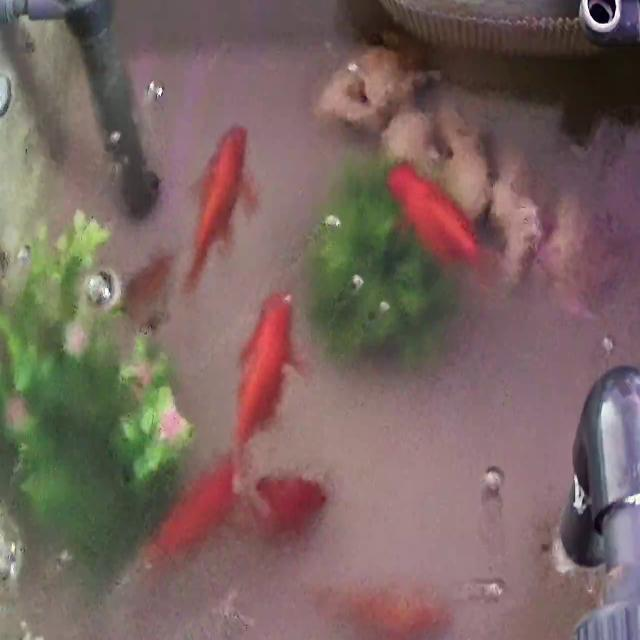fish: (233, 289, 304, 476), (183, 121, 258, 294), (137, 453, 245, 571), (388, 162, 488, 276), (332, 581, 434, 640), (251, 472, 330, 539), (123, 250, 175, 327)
